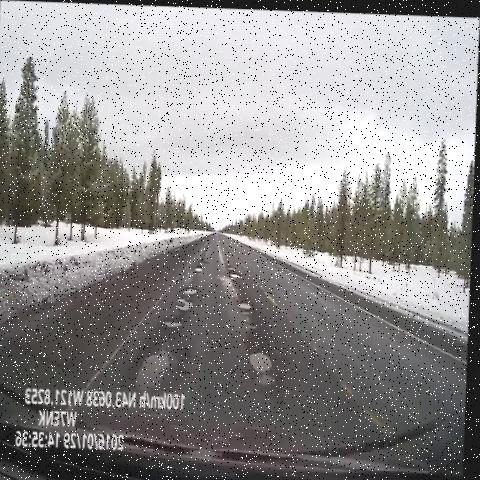pothole: (135, 336, 176, 401), (236, 333, 283, 384), (225, 257, 252, 286), (159, 307, 185, 335), (235, 295, 266, 318), (173, 291, 199, 318), (184, 276, 205, 300), (194, 257, 210, 283), (198, 250, 216, 267)
